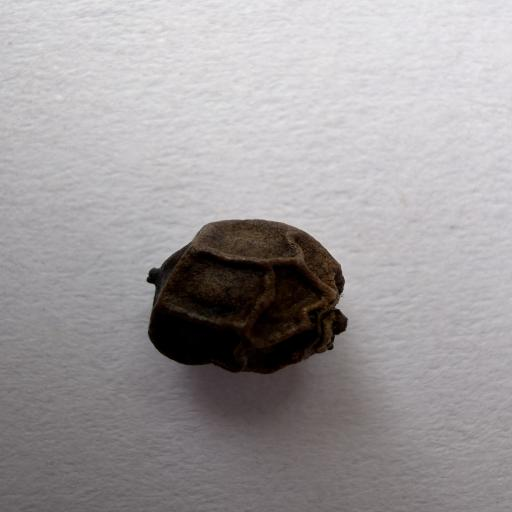Black_pepper: (137, 212, 370, 398)
